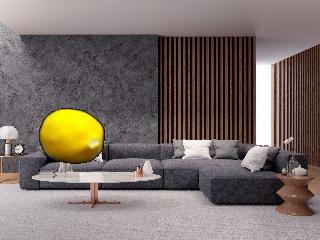lemon: (39, 109, 103, 163)
